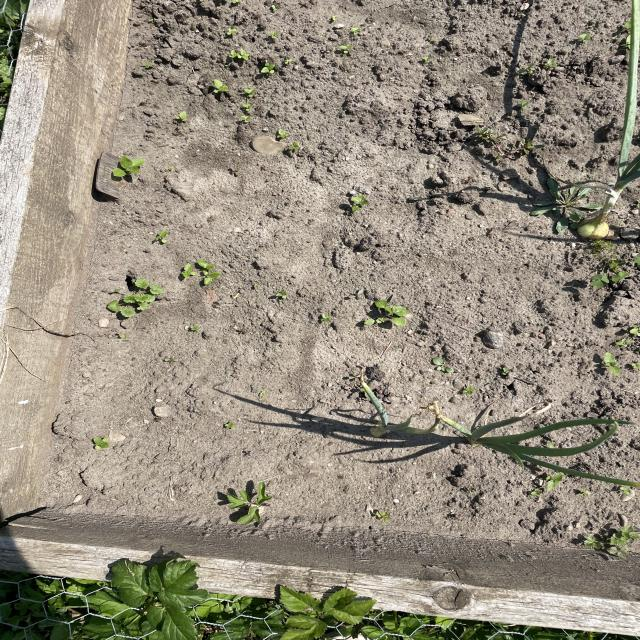Onion: (578, 2, 640, 246), (445, 415, 633, 480), (365, 390, 428, 438)
weed: (532, 172, 593, 232), (222, 480, 276, 530), (100, 277, 161, 320), (586, 526, 640, 557), (176, 256, 227, 288), (368, 294, 404, 336), (99, 155, 148, 181)
